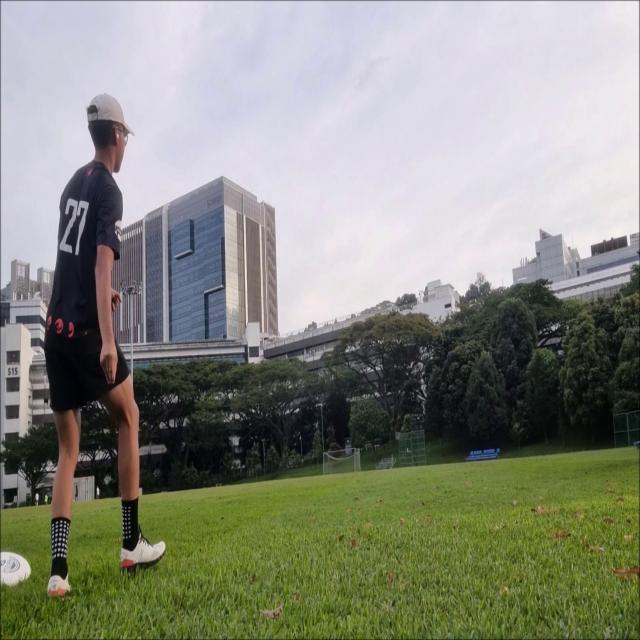disc: (517, 276, 527, 282)
